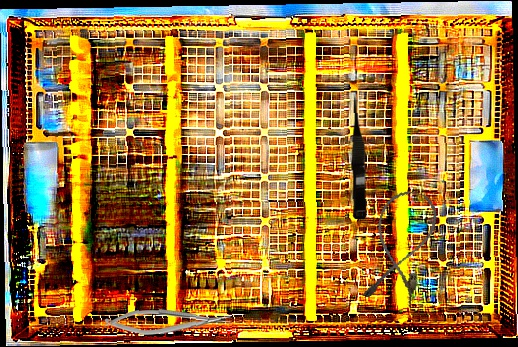Cannula: (359, 185, 442, 310)
Micro Scissor: (348, 92, 370, 220)
Needle Holder: (103, 307, 232, 337)
